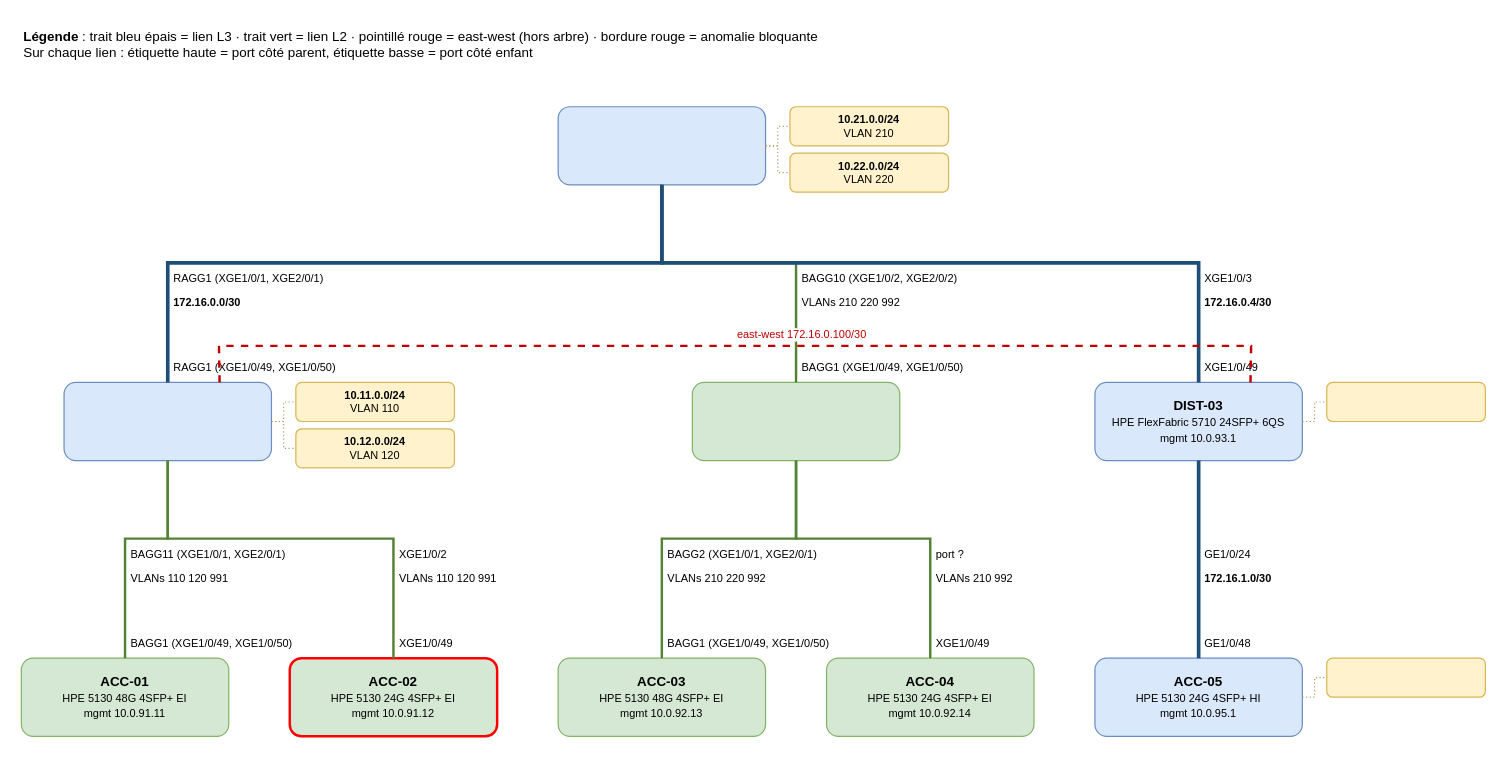
Some shapes in this 1507 by 758 pixel diagram are drawn without their labels. Here are the shapes that lost their labels. From the top down, the centre of each, then its label:
[661,145]: CORE-01 HPE FlexFabric 5940 48SFP+ 6QSFP28 mgmt 10.0.92.1
[167,421]: DIST-01 HPE FlexFabric 5710 48SFP+ 6QS mgmt 10.0.91.1
[795,421]: DIST-02 HPE 5510 48G 4SFP+ HI mgmt 10.0.92.2
[1405,401]: 10.31.0.0/24 VLAN 310
[1405,677]: 10.51.0.0/24 VLAN 510
